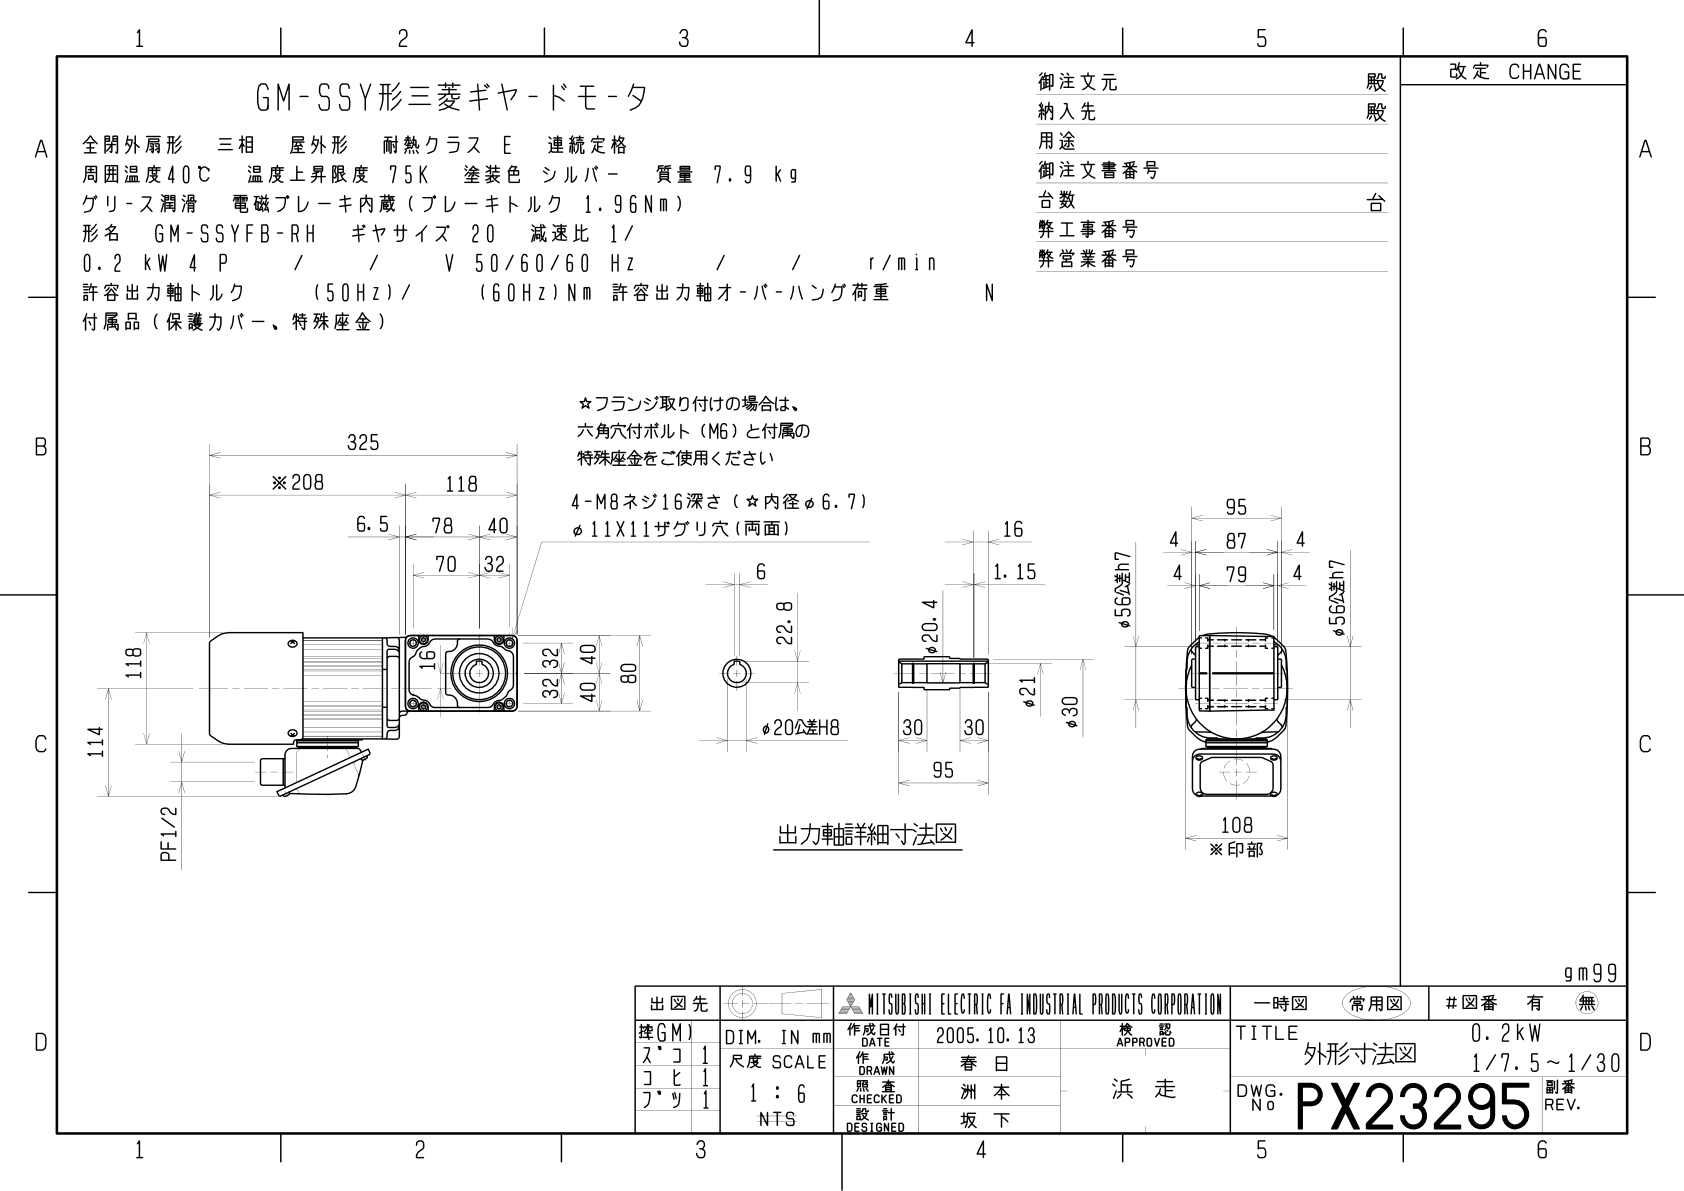GM_SSY_屋外_三相: (1, 1, 1680, 1186)
